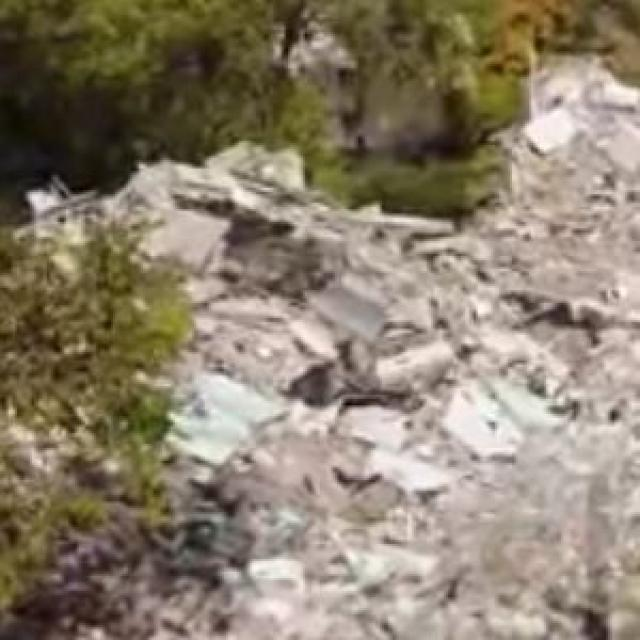collapsed_building: (43, 92, 632, 638)
